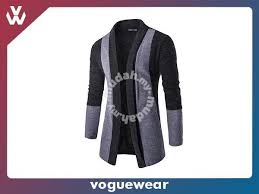C_cardigan sweater: (82, 19, 190, 168)
